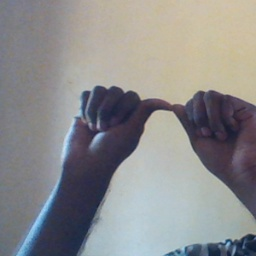A: (63, 85, 256, 181)
